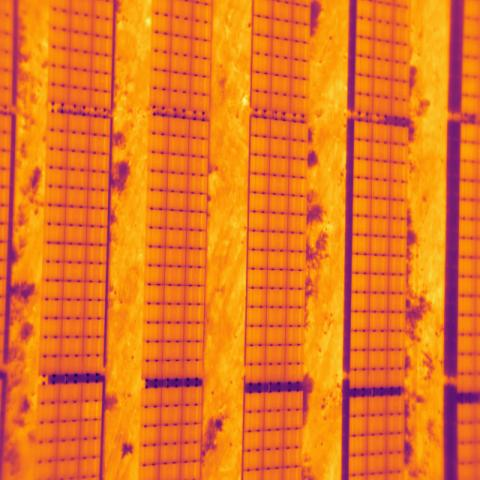fault: (79, 401, 103, 422)
